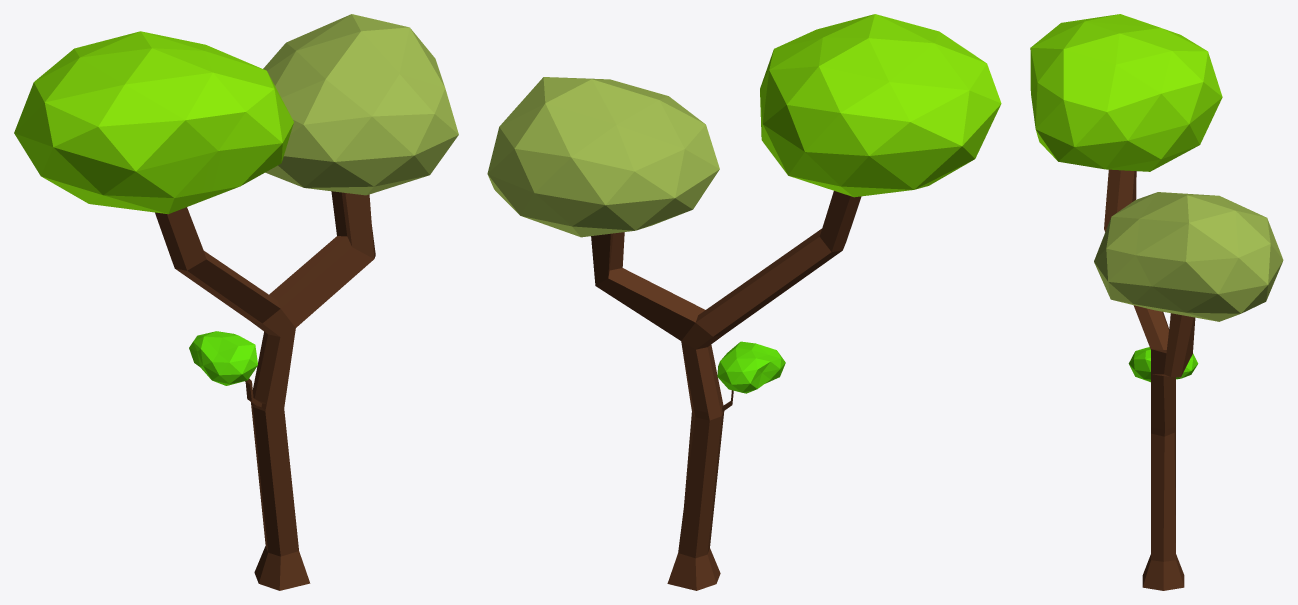
The model's file is tree4.fbx.
3 renders of one model, left to right at view 1: azimuth 30°, elevation 25°; view 2: azimuth 150°, elevation 25°; view 3: azimuth 270°, elevation 25°, orthographic. The views are drawn at different scales.
Visible parts, largest first — view 1: Low poly tree #3; view 2: Low poly tree #3; view 3: Low poly tree #3.
Boxes of the visible parts, x1,y1,x2,y2 form: Low poly tree #3: [14, 14, 458, 590]; Low poly tree #3: [487, 14, 1001, 590]; Low poly tree #3: [1030, 14, 1283, 590].
Bounding box in the file's own units: 486 × 602 × 285.
